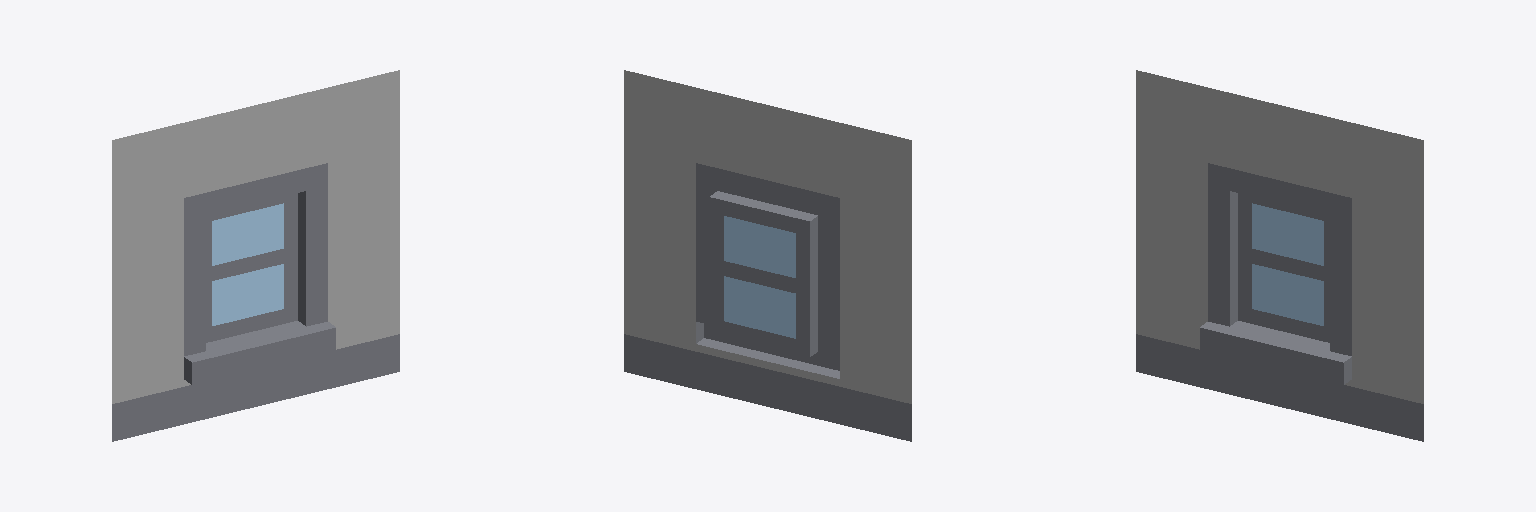
Rendered from wall_windowB.obj.
3 renders of one model, left to right at view 1: azimuth 30°, elevation 25°; view 2: azimuth 150°, elevation 25°; view 3: azimuth 330°, elevation 25°, orthographic.
Visible parts, largest first — view 1: wall_windowB; view 2: wall_windowB; view 3: wall_windowB.
Part boxes in pixels (x1,y1,x2,y2): wall_windowB: (112, 70, 399, 441); wall_windowB: (624, 70, 911, 441); wall_windowB: (1136, 70, 1423, 441).
Bounding box in the file's own units: 0.4 × 0.4 × 0.04.